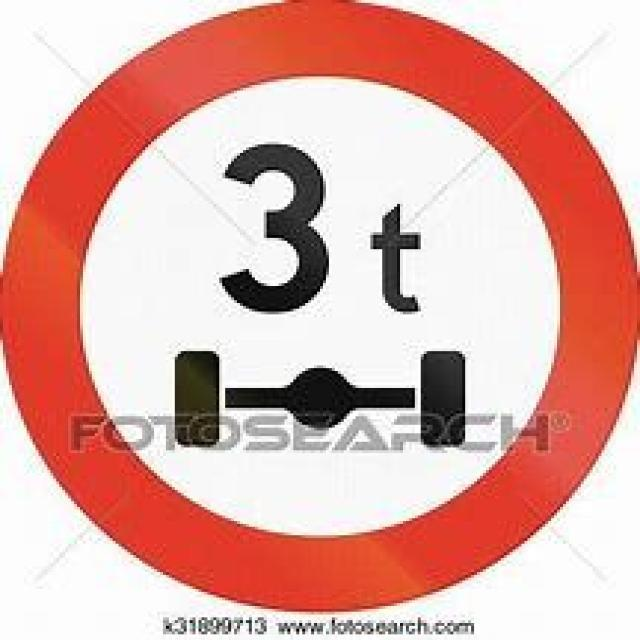axle load limit: (18, 14, 633, 609)
